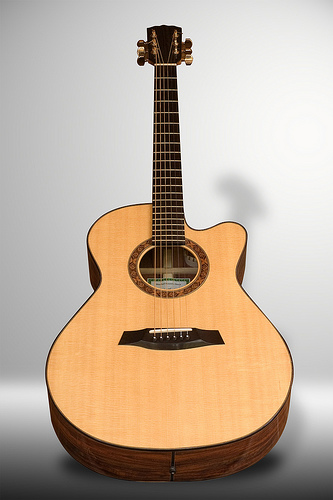guitar: (43, 25, 294, 482)
